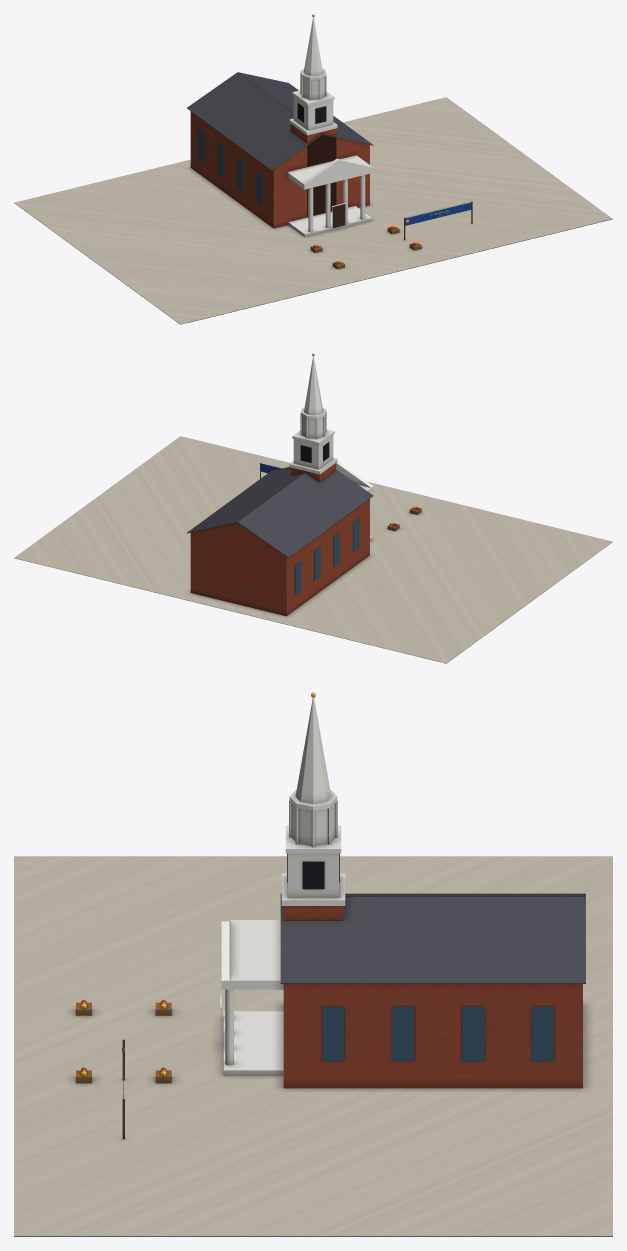
The model's file is iglesia_unitaria.glb.
3 views of the same model, one above another, from view 1: azimuth 30°, elevation 25°; view 2: azimuth 150°, elevation 25°; view 3: azimuth 270°, elevation 25° (orthographic). The views are drawn at different scales.
Parts seen in each view (by area): view 1: iglesia_unitaria; view 2: iglesia_unitaria; view 3: iglesia_unitaria.
Part boxes in pixels (<box>): iglesia_unitaria: <box>14,14,612,324</box>; iglesia_unitaria: <box>14,353,612,663</box>; iglesia_unitaria: <box>14,692,612,1236</box>.
Size of the model in its own units: 90 by 39.15 by 60.
1 material, 1 textured.
